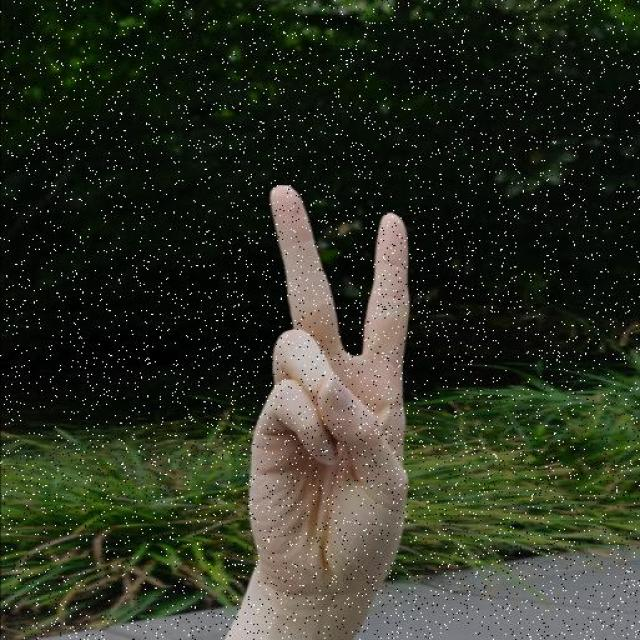V: (242, 177, 415, 599)
